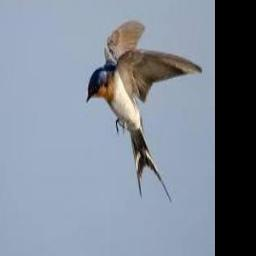Swallow: (87, 20, 203, 204)
